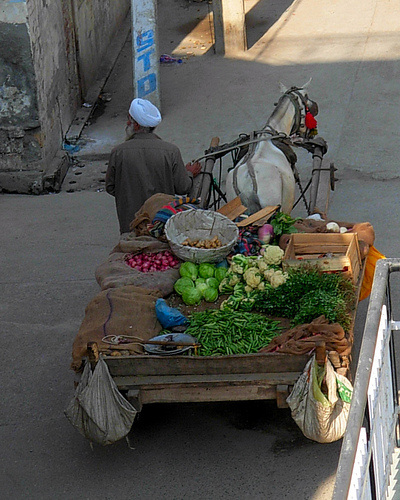horse: (220, 72, 320, 227)
